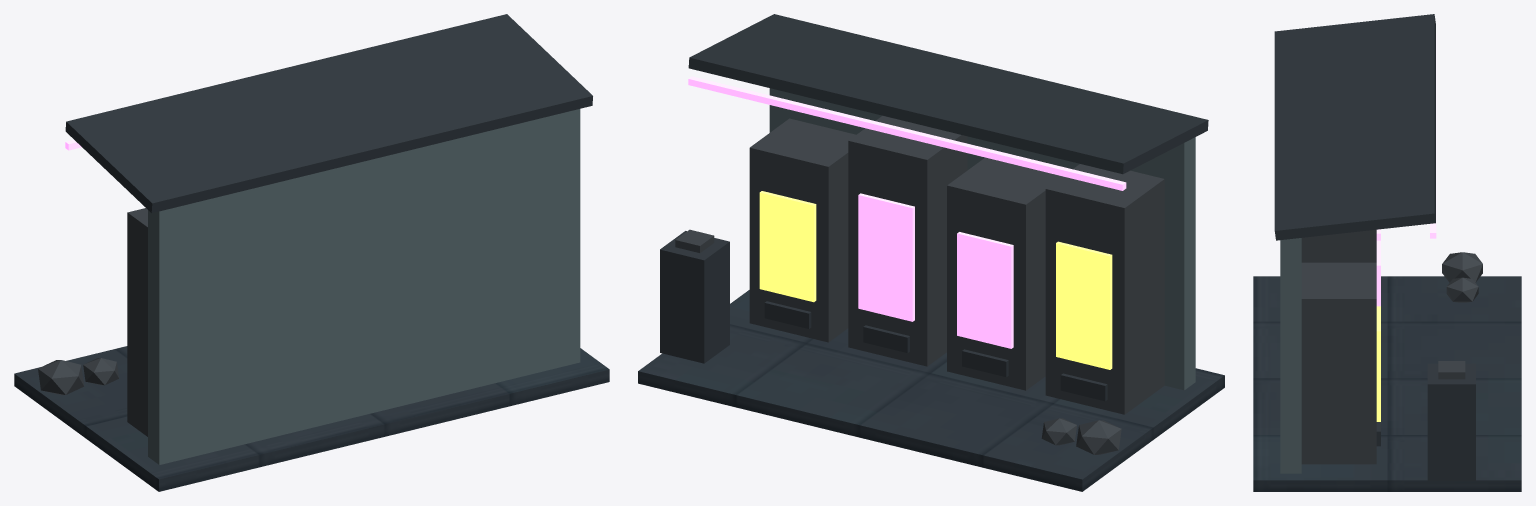
The model's file is synthwave-vending.glb.
3 renders of one model, left to right at view 1: azimuth 30°, elevation 25°; view 2: azimuth 150°, elevation 25°; view 3: azimuth 270°, elevation 25°, orthographic. The views are drawn at different scales.
Visible parts, largest first — view 1: BackWall, Vnd_Frame, Pad, Vnd_Door; view 2: Vnd_Door, Vnd_Frame, Pad, BackWall, Vnd_DimB, VendGlow0, VendGlow1, VendGlow3; view 3: Vnd_Frame, Pad, Vnd_Door, BackWall, Vnd_DimB, VendGlow3.
Part boxes in pixels (bbox=[...]): BackWall: bbox=[148, 109, 580, 464]; Vnd_Frame: bbox=[65, 14, 592, 213]; Pad: bbox=[14, 346, 609, 491]; Vnd_Door: bbox=[38, 208, 147, 436]; Vnd_Door: bbox=[675, 115, 1164, 454]; Vnd_Frame: bbox=[660, 14, 1208, 401]; Pad: bbox=[638, 290, 1224, 491]; BackWall: bbox=[769, 88, 1195, 390]; Vnd_DimB: bbox=[688, 76, 1126, 321]; VendGlow0: bbox=[1056, 241, 1112, 369]; VendGlow1: bbox=[957, 232, 1013, 348]; VendGlow3: bbox=[759, 191, 816, 302]; Vnd_Frame: bbox=[1274, 14, 1475, 481]; Pad: bbox=[1253, 276, 1521, 491]; Vnd_Door: bbox=[1301, 229, 1482, 464]; BackWall: bbox=[1280, 238, 1301, 473]; Vnd_DimB: bbox=[1376, 33, 1436, 306]; VendGlow3: bbox=[1376, 306, 1380, 421].
Bounding box in the file's own units: 0.9152 × 0.5679 × 0.5.
8 materials, 1 textured.
